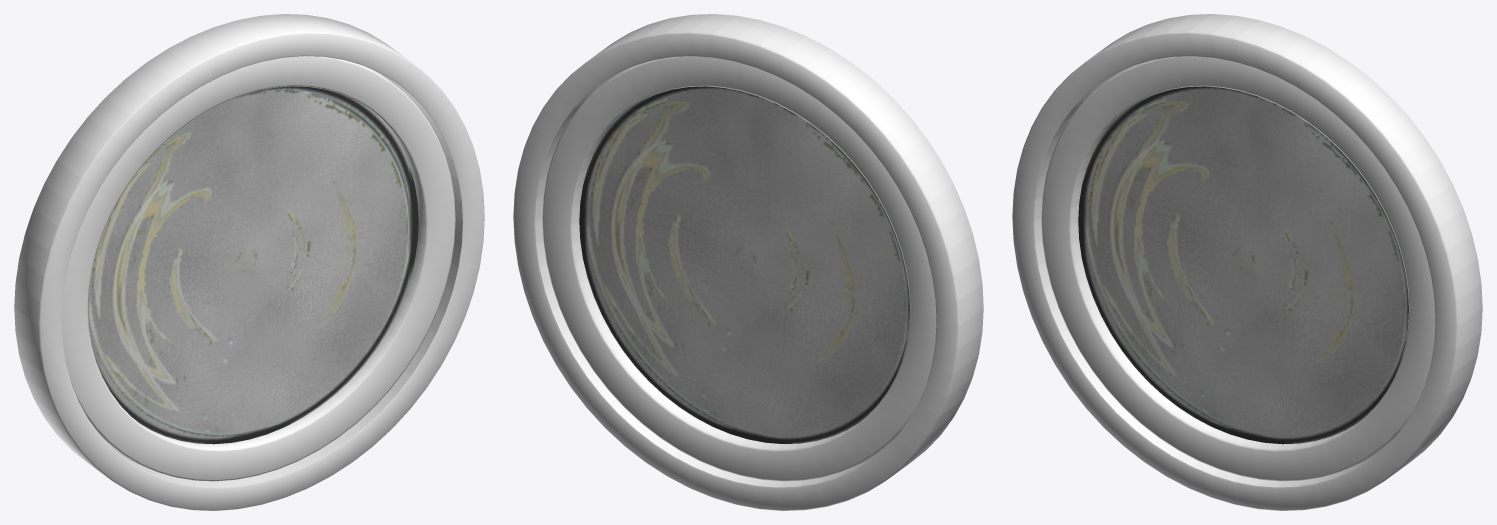
Rendered from RoundWindowWhite02.fbx.
3 renders of one model, left to right at view 1: azimuth 30°, elevation 25°; view 2: azimuth 150°, elevation 25°; view 3: azimuth 330°, elevation 25°, orthographic.
Parts seen in each view (by area): view 1: default; view 2: default; view 3: default.
Part boxes in pixels (box(x1,y1,x2,y2)): default: box(14, 14, 484, 510); default: box(513, 14, 983, 510); default: box(1012, 14, 1482, 510).
Size of the model in its own units: 121 by 121 by 12.24.
